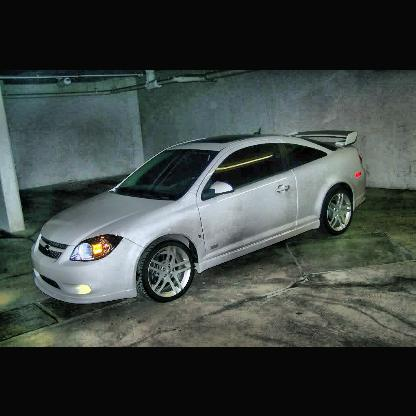Chevrolet Cobalt SS 2010: (30, 125, 370, 313)
